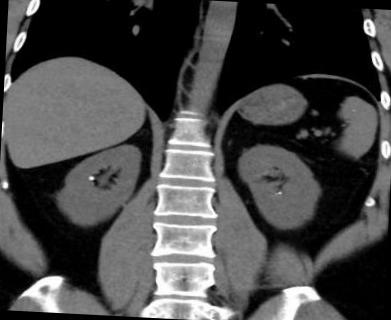Tas_Var: (86, 175, 96, 182), (278, 190, 282, 196), (274, 191, 277, 196)
